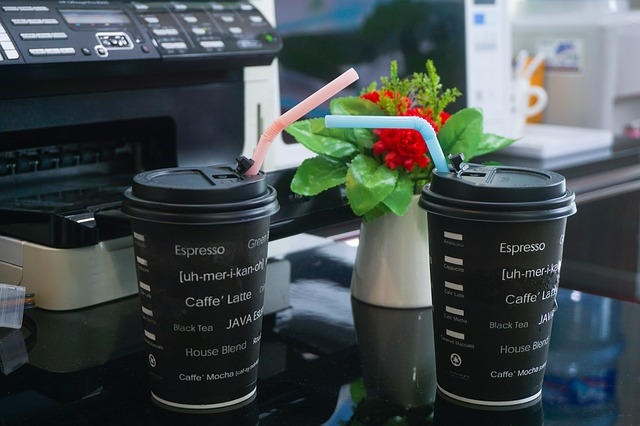cup: (118, 150, 285, 415), (415, 157, 585, 415)
